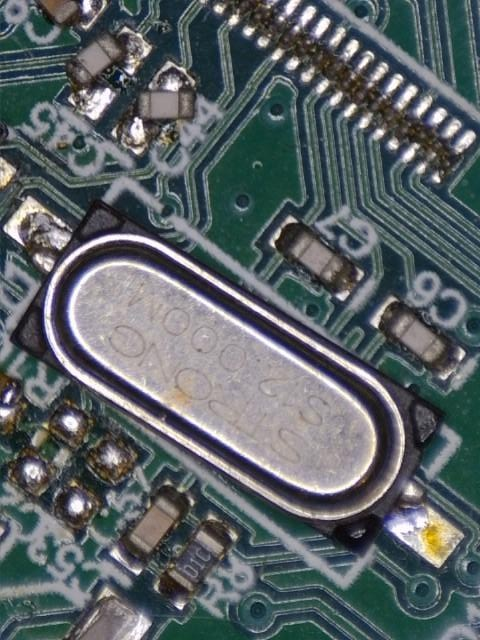pcb_defect: (1, 195, 465, 568), (63, 25, 152, 122), (110, 60, 196, 156), (36, 0, 109, 32)
